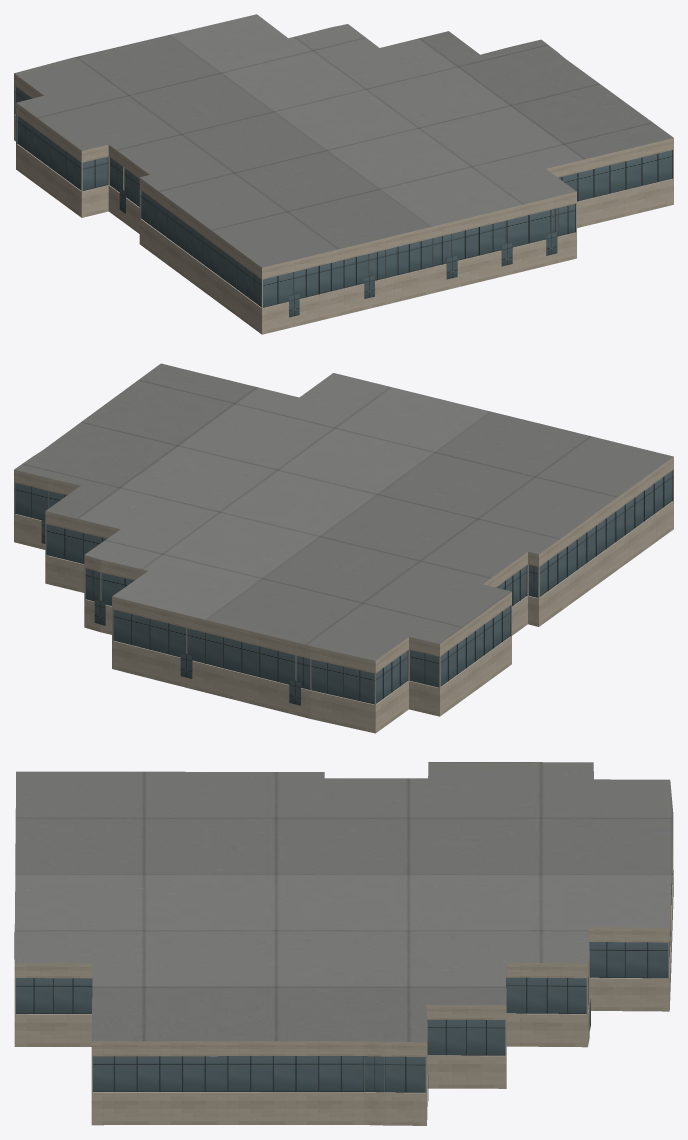
Rendered from student_union_food_court.glb.
3 renders of one model, top to bottom at view 1: azimuth 30°, elevation 25°; view 2: azimuth 150°, elevation 25°; view 3: azimuth 270°, elevation 25°, orthographic. The views are drawn at different scales.
Parts seen in each view (by area): view 1: student_union_food_court_CampusAtlas_facade.053, student_union_food_court_CampusAtlas_glass.053; view 2: student_union_food_court_CampusAtlas_facade.053, student_union_food_court_CampusAtlas_glass.053; view 3: student_union_food_court_CampusAtlas_facade.053, student_union_food_court_CampusAtlas_glass.053.
Boxes of the visible parts, x1=… form: student_union_food_court_CampusAtlas_facade.053: x1=14, y1=14, x2=673, y2=334; student_union_food_court_CampusAtlas_glass.053: x1=14, y1=86, x2=672, y2=317; student_union_food_court_CampusAtlas_facade.053: x1=14, y1=363, x2=673, y2=733; student_union_food_court_CampusAtlas_glass.053: x1=15, y1=470, x2=673, y2=705; student_union_food_court_CampusAtlas_facade.053: x1=14, y1=762, x2=673, y2=1125; student_union_food_court_CampusAtlas_glass.053: x1=14, y1=870, x2=673, y2=1100.
Size of the model in its own units: 52.42 by 7.3 by 52.17.
Materials: 2 (2 with a texture image).
